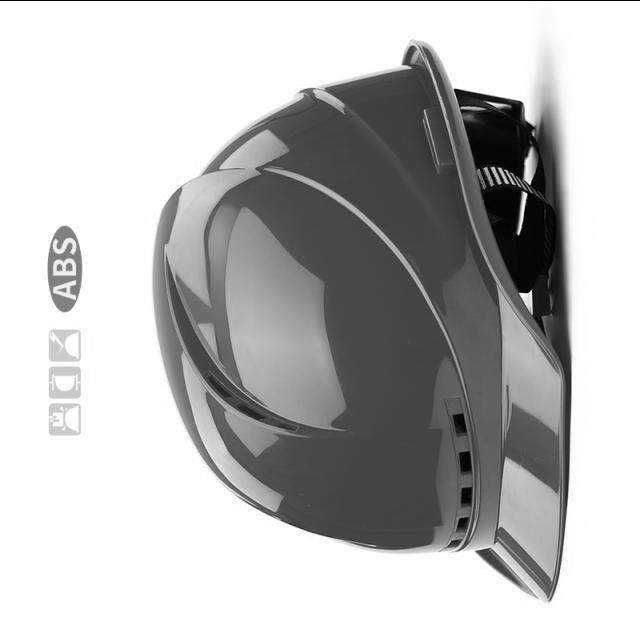safety_helmet: (153, 38, 572, 600)
